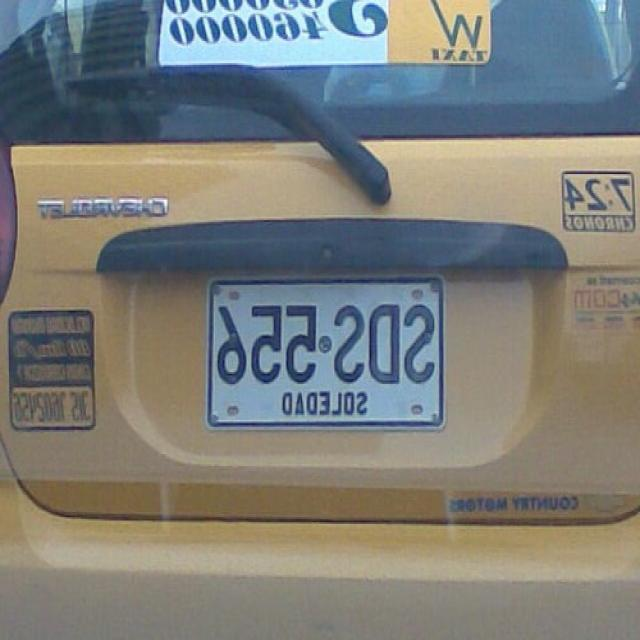placas: (211, 298, 436, 395)
